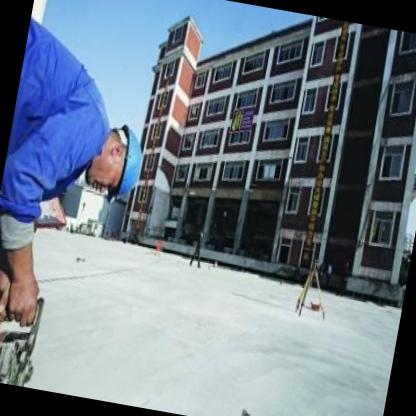helmet: (80, 115, 150, 200)
